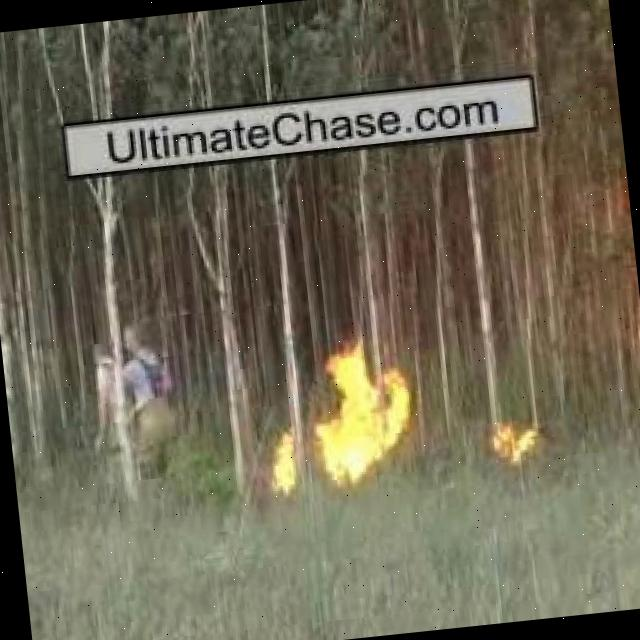fire: (306, 347, 418, 482), (488, 413, 542, 472), (268, 422, 300, 500)
